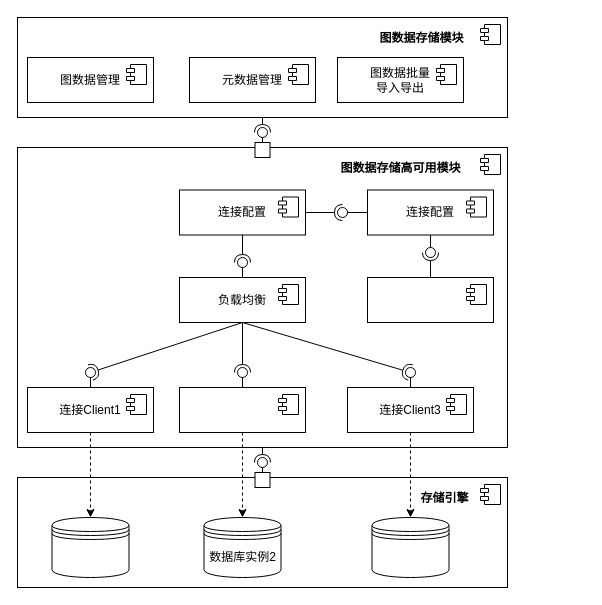
The diagram is 602 pixels wide and 605 high, and some of its shapes have lost their labels. The shapes that lost their labels are listed below. From the top down, each one's box as (x1, y1, x2, y2) in pixels, then its label:
(366, 276, 494, 322): 集群管理
(178, 386, 306, 432): 连接Client2
(51, 516, 129, 578): 数据库实例1
(371, 516, 449, 578): 数据库实例3
